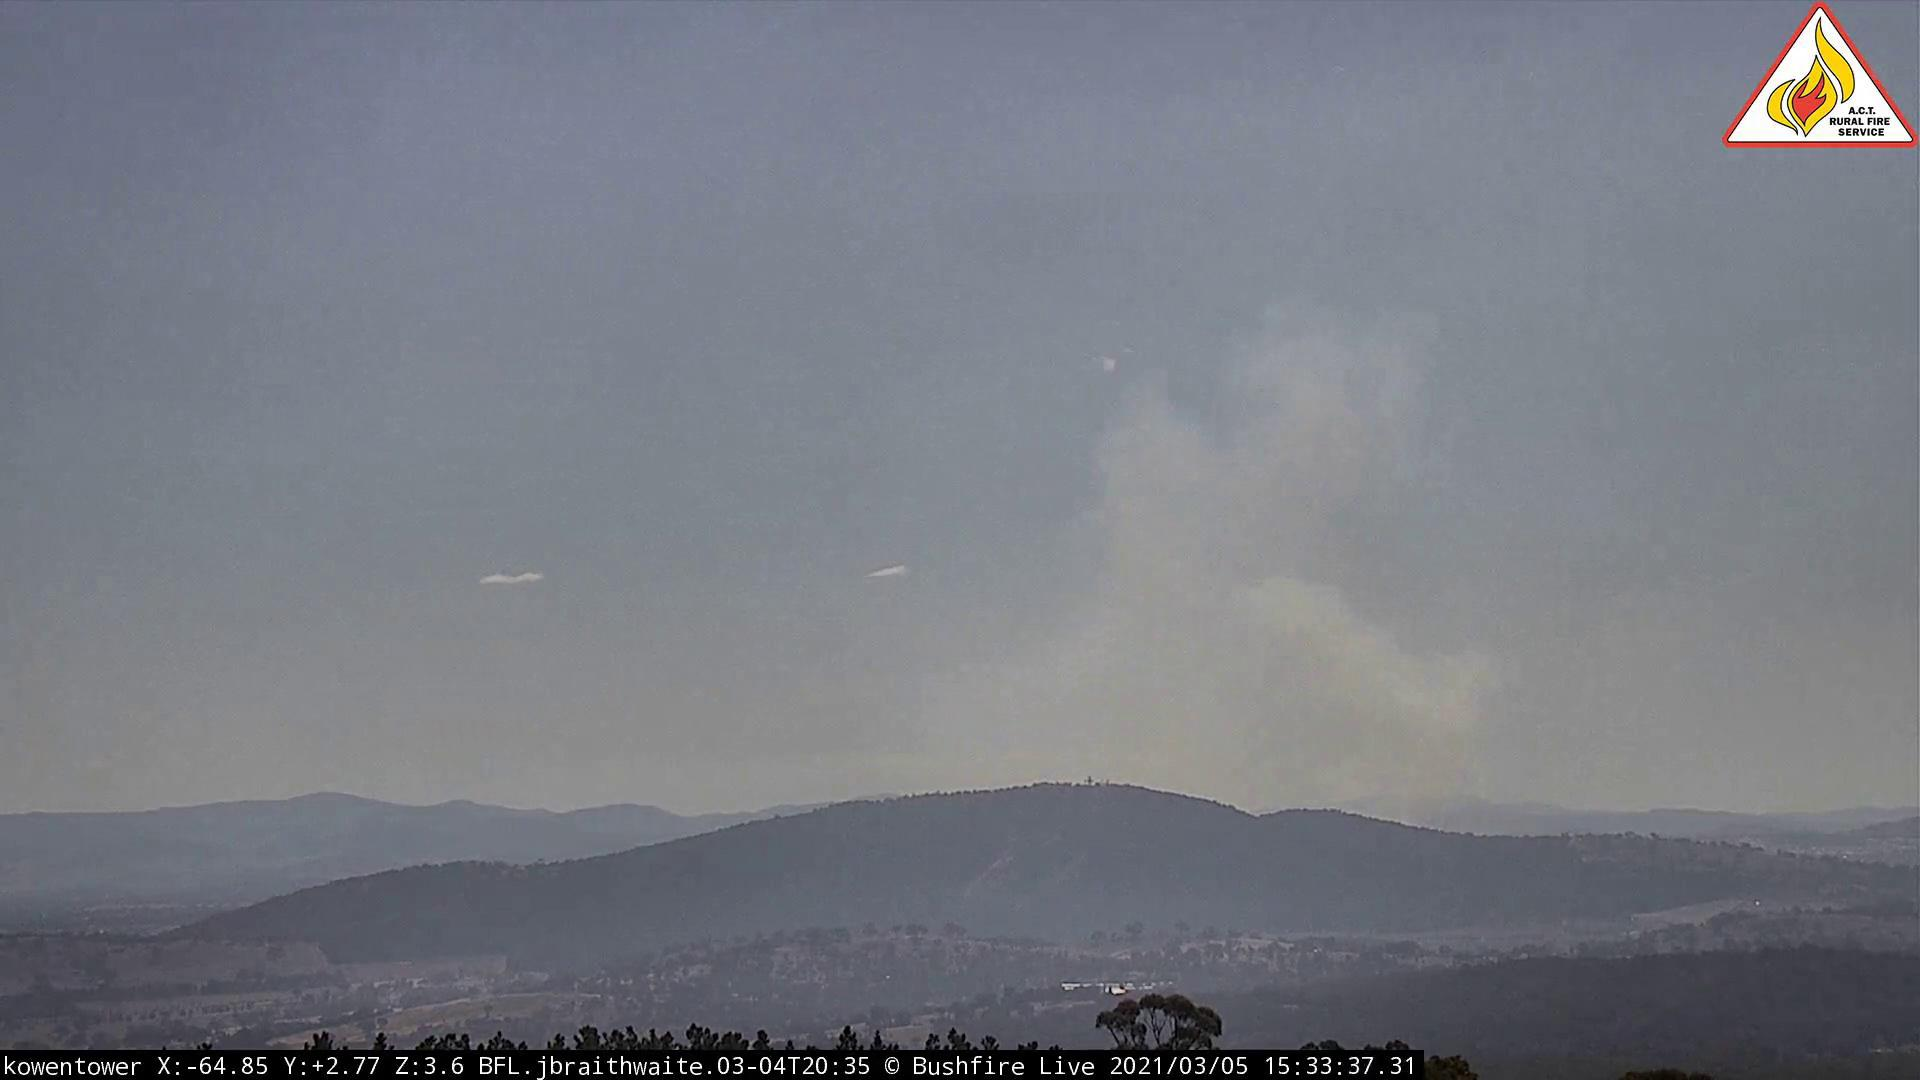instance_salient_object: (945, 280, 1495, 839)
